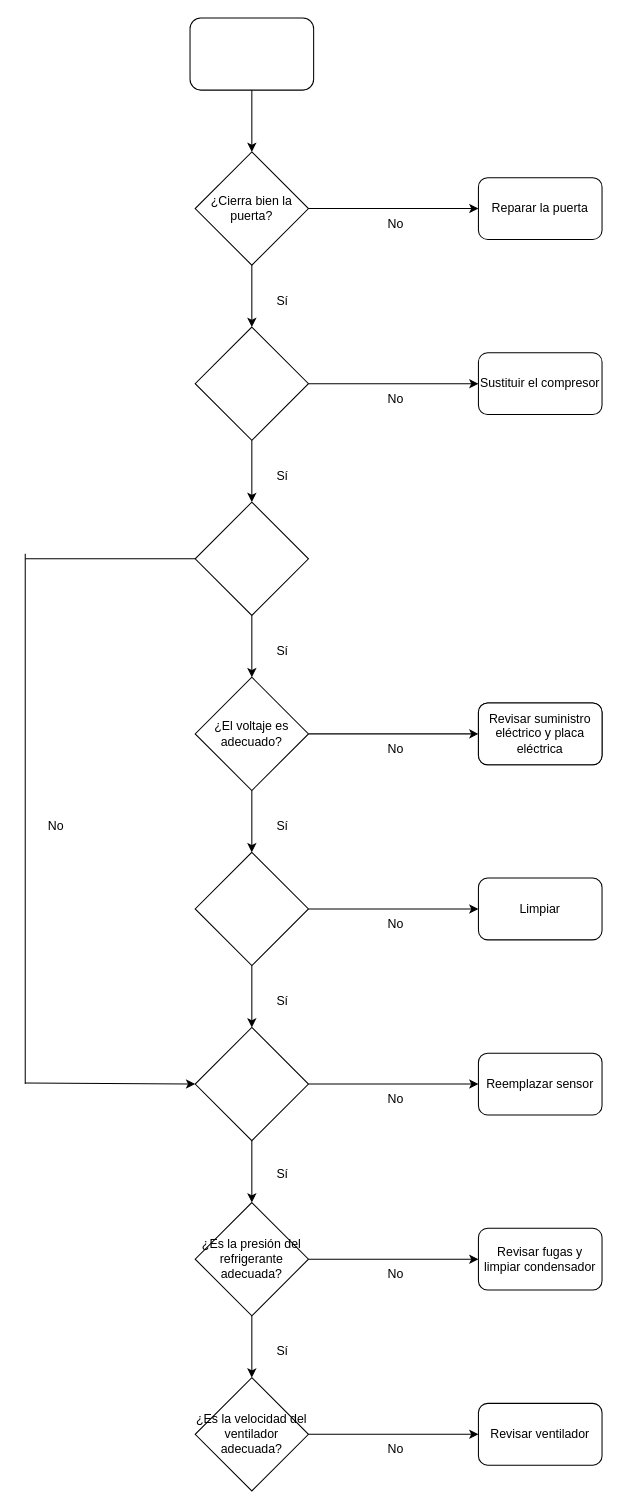
Image size: 620x1509. Some labels were removed from this diagram. Here are the shapes that lost their labels. From the top down, the box of each, then its label:
(189, 17, 314, 90): La nevera no funciona
(194, 326, 308, 440): ¿Funciona bien el compresor?
(194, 501, 308, 615): ¿La temperatura interna es adecuada?
(194, 851, 308, 966): ¿Está la nevera adecuadamente limpia?
(194, 1026, 308, 1141): ¿Funciona el sensor de temperatura?
